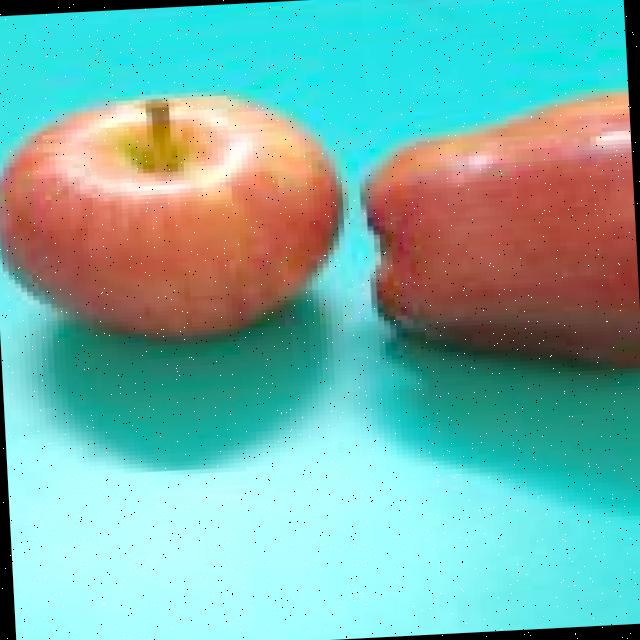Good_Apple 10-21 days: (0, 97, 332, 336), (365, 95, 640, 361)
